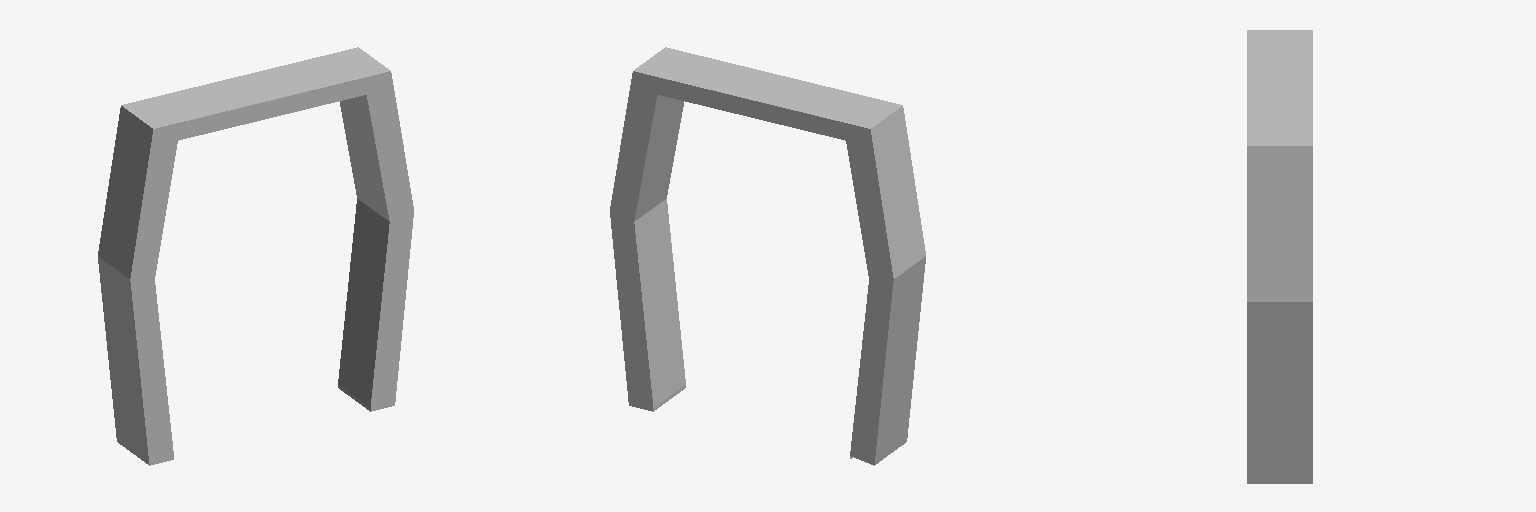
File: New Outline.obj
3 renders of one model, left to right at view 1: azimuth 30°, elevation 25°; view 2: azimuth 150°, elevation 25°; view 3: azimuth 270°, elevation 25°, orthographic.
Parts seen in each view (by area): view 1: Plane.001_Plane.006; view 2: Plane.001_Plane.006; view 3: Plane.001_Plane.006.
Part boxes in pixels (left/top/right/bottom): Plane.001_Plane.006: left=98, top=47, right=413, bottom=465; Plane.001_Plane.006: left=610, top=47, right=925, bottom=465; Plane.001_Plane.006: left=1247, top=30, right=1312, bottom=483.
Size of the model in its own units: 10.06 by 11.37 by 2.